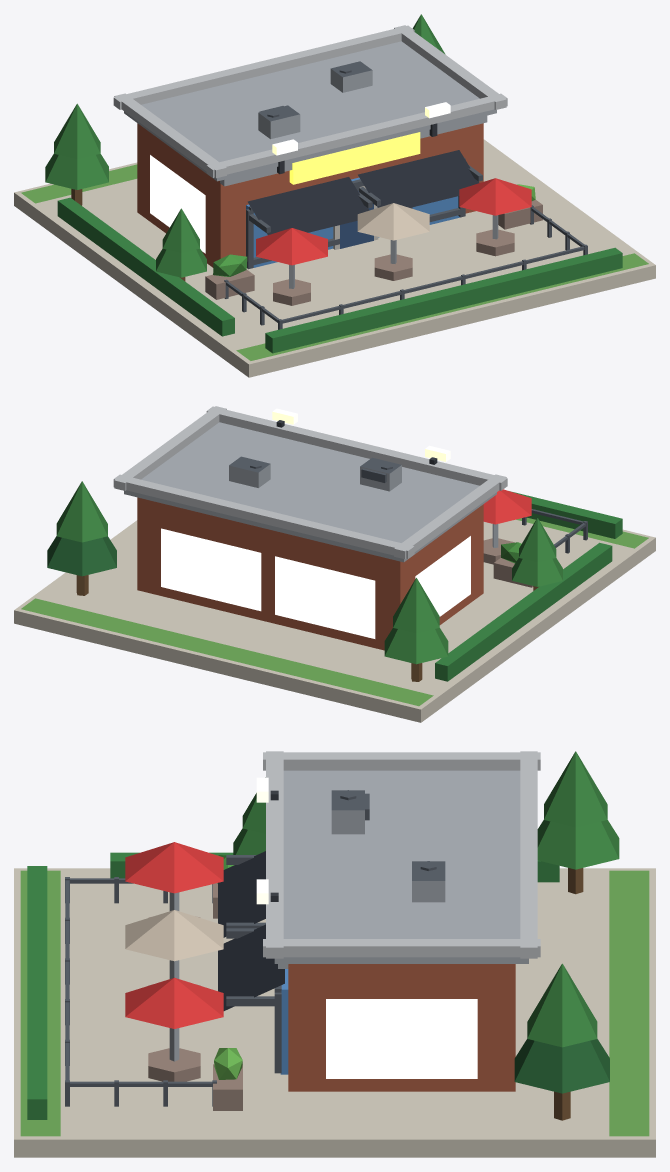
The picture shows the model from 3 angles, top to bottom: view 1: azimuth 30°, elevation 25°; view 2: azimuth 150°, elevation 25°; view 3: azimuth 270°, elevation 25°; orthographic projection. The views are drawn at different scales.
Parts seen in each view (by area): view 1: b12; view 2: b12; view 3: b12.
Part boxes in pixels (box(x1,y1,x2,y2)): b12: box(14, 14, 655, 377); b12: box(14, 406, 655, 722); b12: box(14, 751, 655, 1157).
Bounding box in the file's own units: 0.9625 × 0.314 × 0.96.
